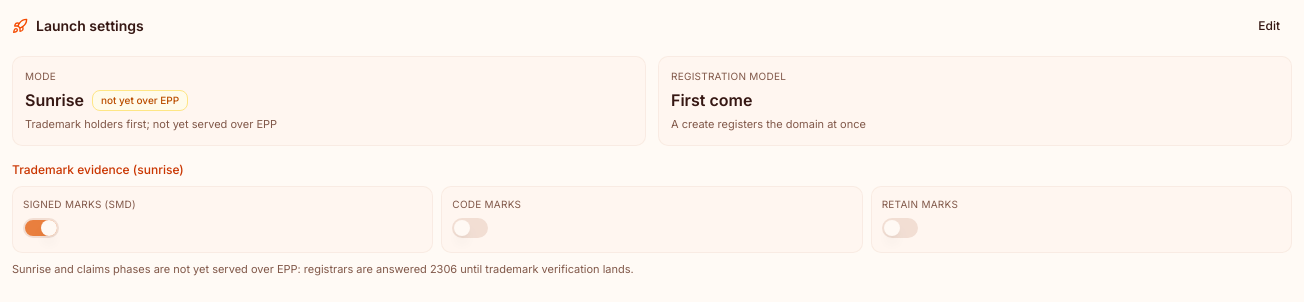
Test: PhaseLaunchSection › refuses a sunrise that accepts no marks
Click the button "Edit". click: [1269, 26]
box: 1246,12 -> 1292,40
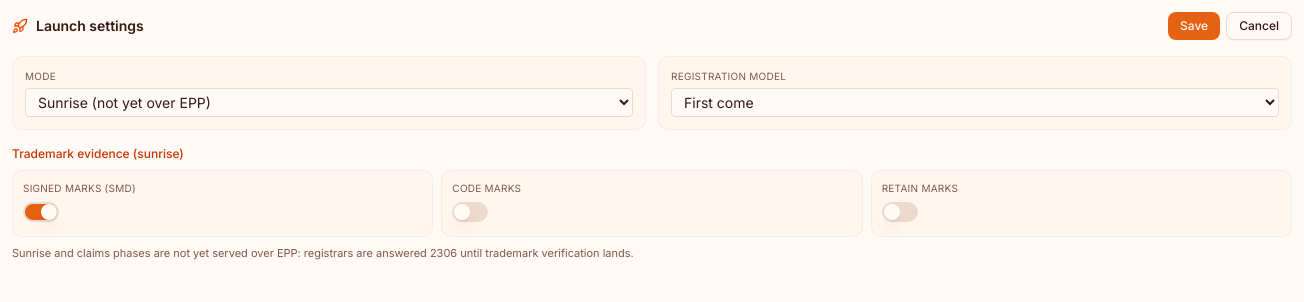
Click the switch named "Signed marks (SMD)". click: [41, 212]
box: 23,202 -> 59,222
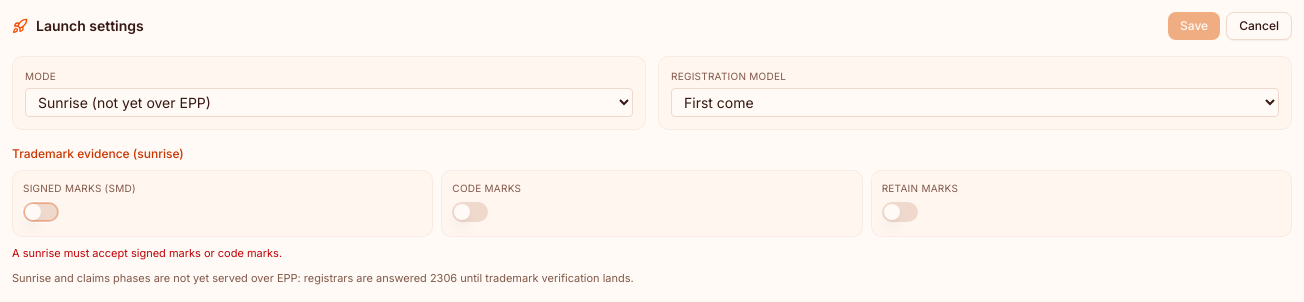
Expected: the text "A sunrise must accept signed marks or code marks." is shown, 12,246 -> 282,260
Expected: the button "Save" is disabled, 1168,12 -> 1220,40
